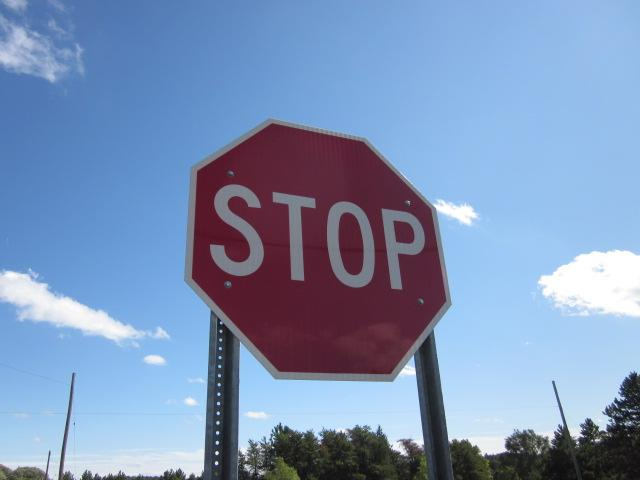stop: (186, 118, 456, 386)
